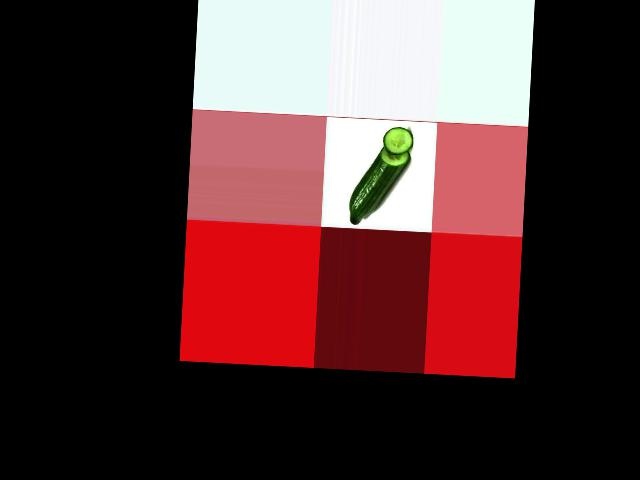cucumber: (348, 143, 410, 227)
